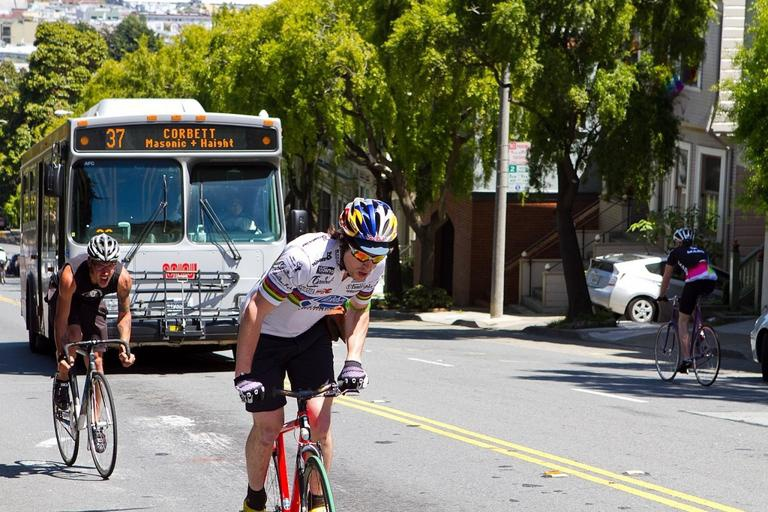non-vehicle: (256, 378, 344, 512), (50, 336, 131, 481), (650, 291, 722, 389), (0, 268, 6, 283)
